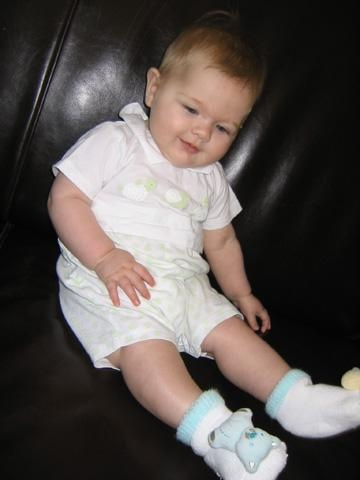head: (145, 22, 267, 169)
person: (36, 5, 351, 476)
